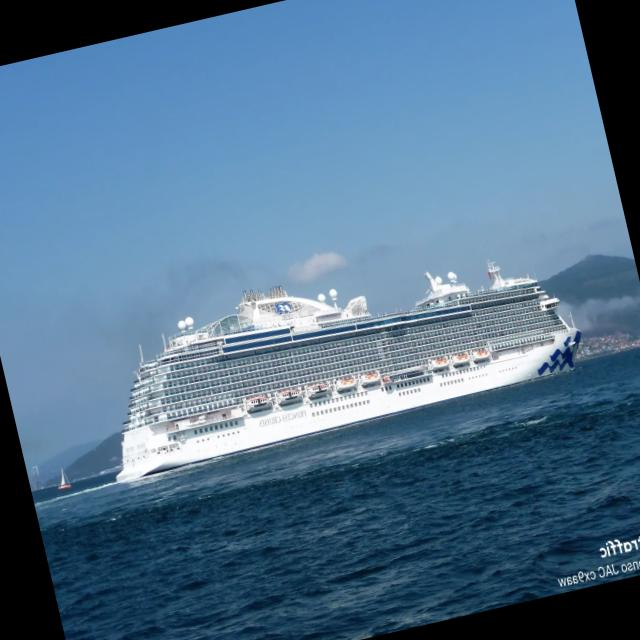Cruise: (117, 262, 581, 481)
